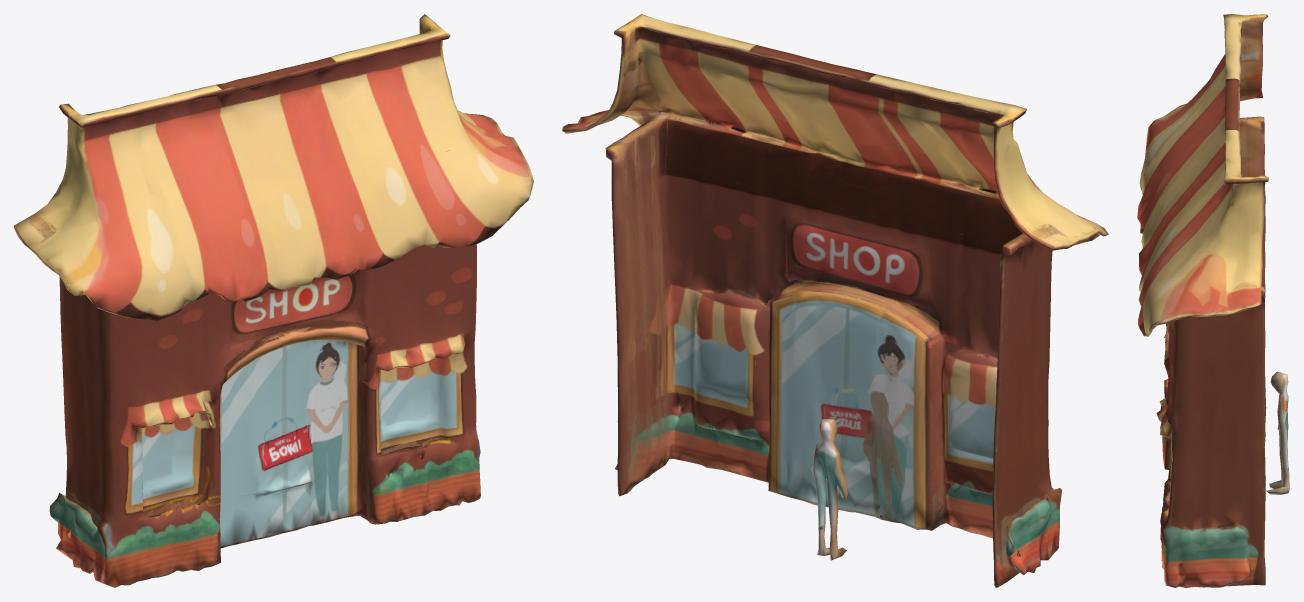
File: hero-glb.glb
3 renders of one model, left to right at view 1: azimuth 30°, elevation 25°; view 2: azimuth 150°, elevation 25°; view 3: azimuth 270°, elevation 25°, orthographic. The views are drawn at different scales.
Bounding box in the file's own units: 2 × 1.79 × 0.6027.
1 material, 1 textured.
